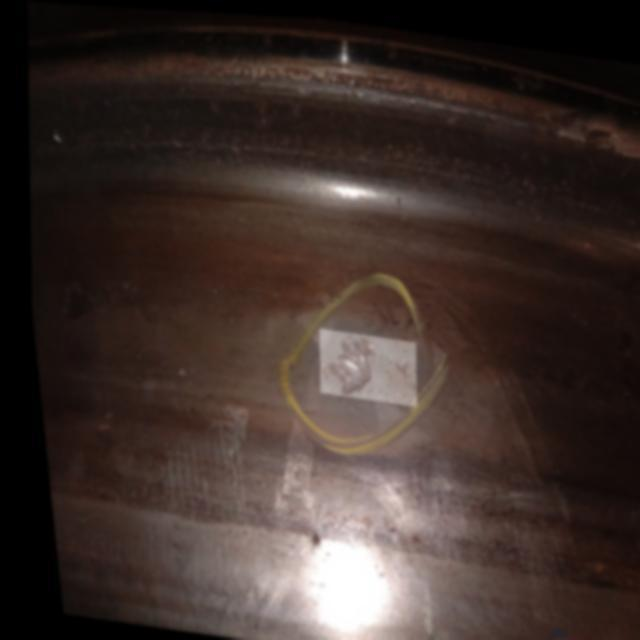Blue hole: (316, 325, 416, 401)
